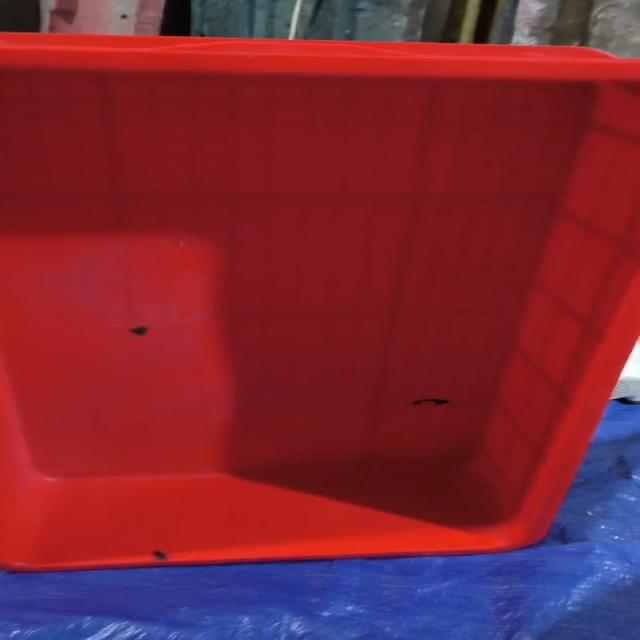red plastic box: (0, 32, 640, 572)
